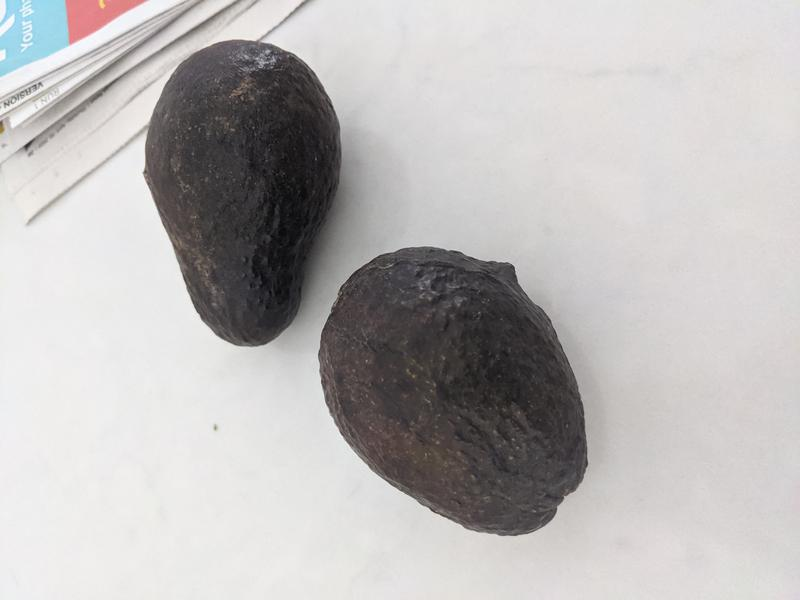avocado: (318, 246, 589, 535), (144, 38, 341, 346)
